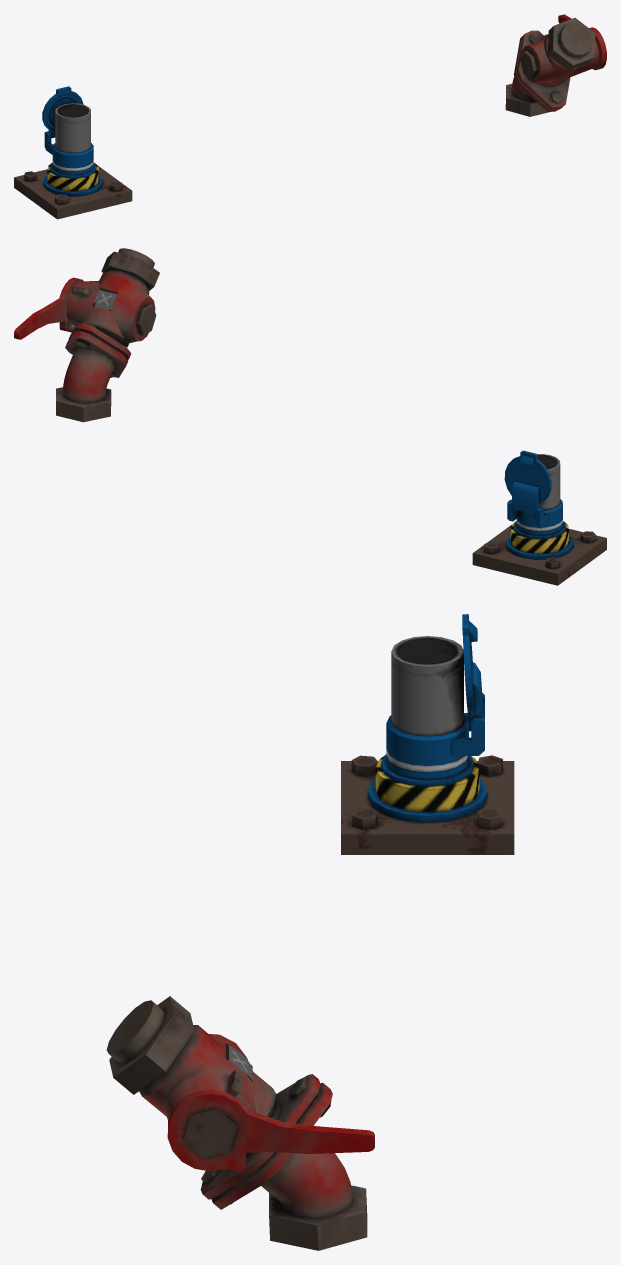
The model's file is hoses.fbx.
The picture shows the model from 3 angles, top to bottom: view 1: azimuth 30°, elevation 25°; view 2: azimuth 150°, elevation 25°; view 3: azimuth 270°, elevation 25°; orthographic projection. The views are drawn at different scales.
Visible parts, largest first — view 1: HeadEndPowerConnectorBase, CableBase model, CableBaseLever model; view 2: CableBase model, HeadEndPowerConnectorBase, CableBaseLever model; view 3: HeadEndPowerConnectorBase, CableBase model, CableBaseLever model.
Boxes of the visible parts, box(x1,y1,x2,y2) form: HeadEndPowerConnectorBase: box(14, 86, 132, 219); CableBase model: box(505, 18, 598, 116); CableBaseLever model: box(558, 14, 606, 70); CableBase model: box(56, 248, 159, 422); HeadEndPowerConnectorBase: box(472, 450, 606, 585); CableBaseLever model: box(14, 277, 83, 339); HeadEndPowerConnectorBase: box(341, 614, 514, 854); CableBase model: box(106, 996, 367, 1250); CableBaseLever model: box(167, 1089, 374, 1171).
Size of the model in its own units: 91.69 by 19.89 by 31.47.
